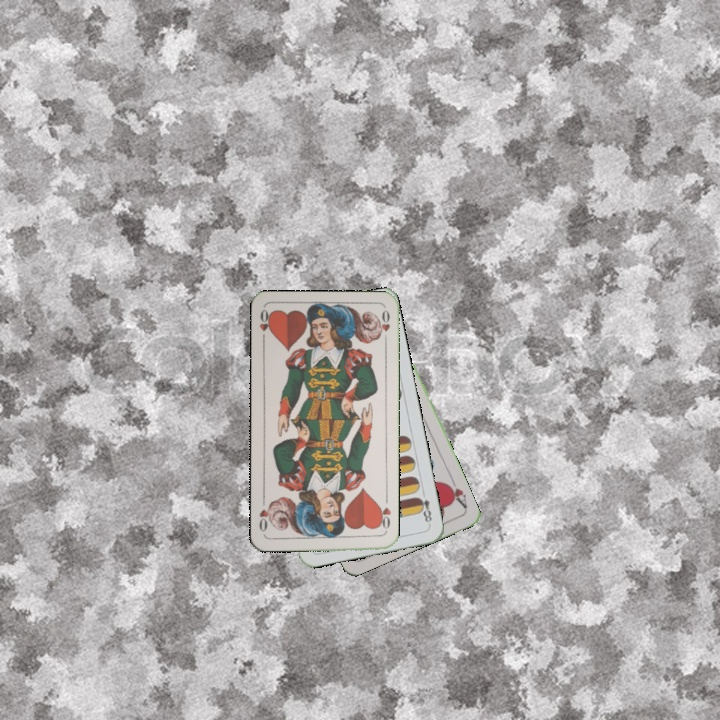E8: (413, 487, 434, 528)
HA: (441, 473, 470, 512)
HO: (374, 495, 393, 535), (255, 306, 274, 346)
